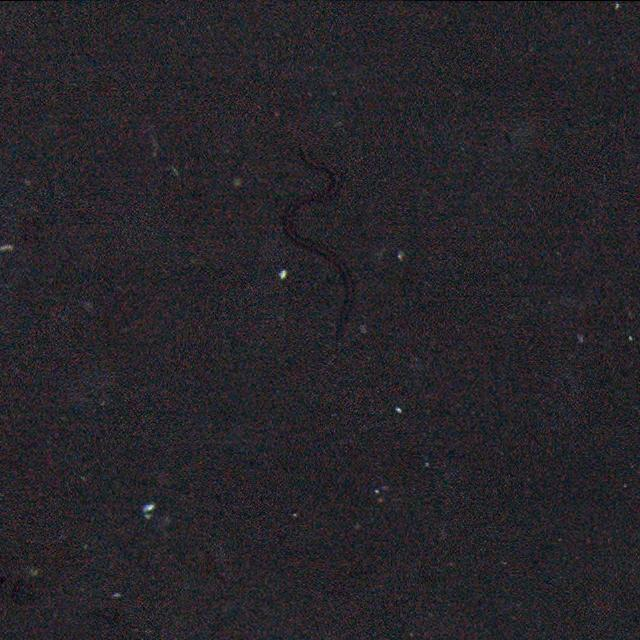eel: (281, 141, 364, 337)
